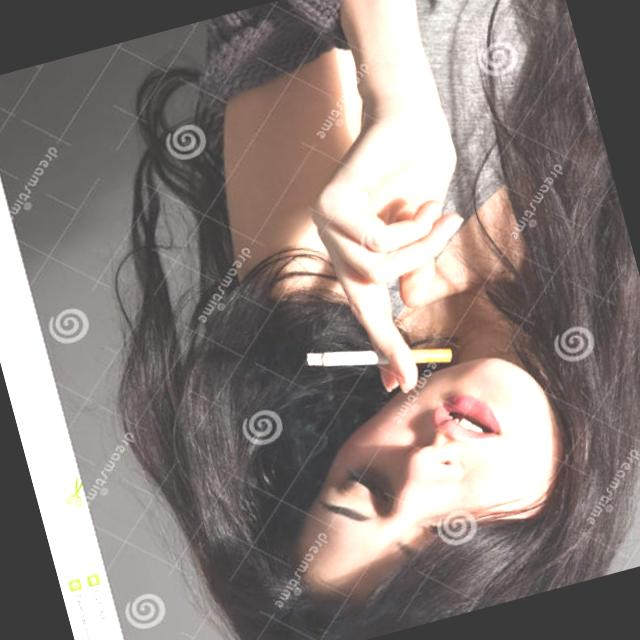cigarette: (301, 330, 384, 386)
